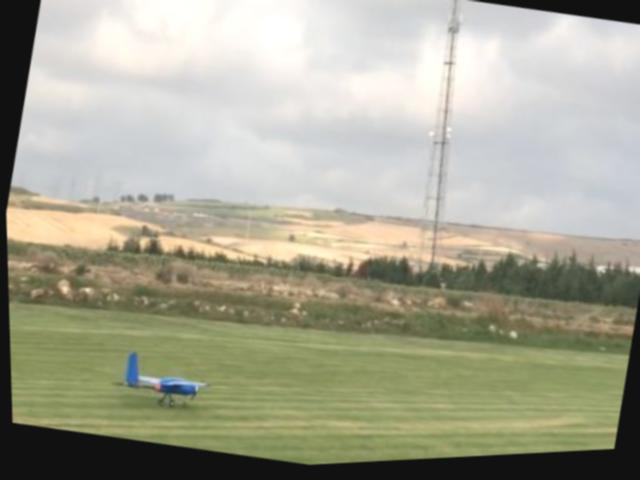uav: (99, 338, 217, 426)
